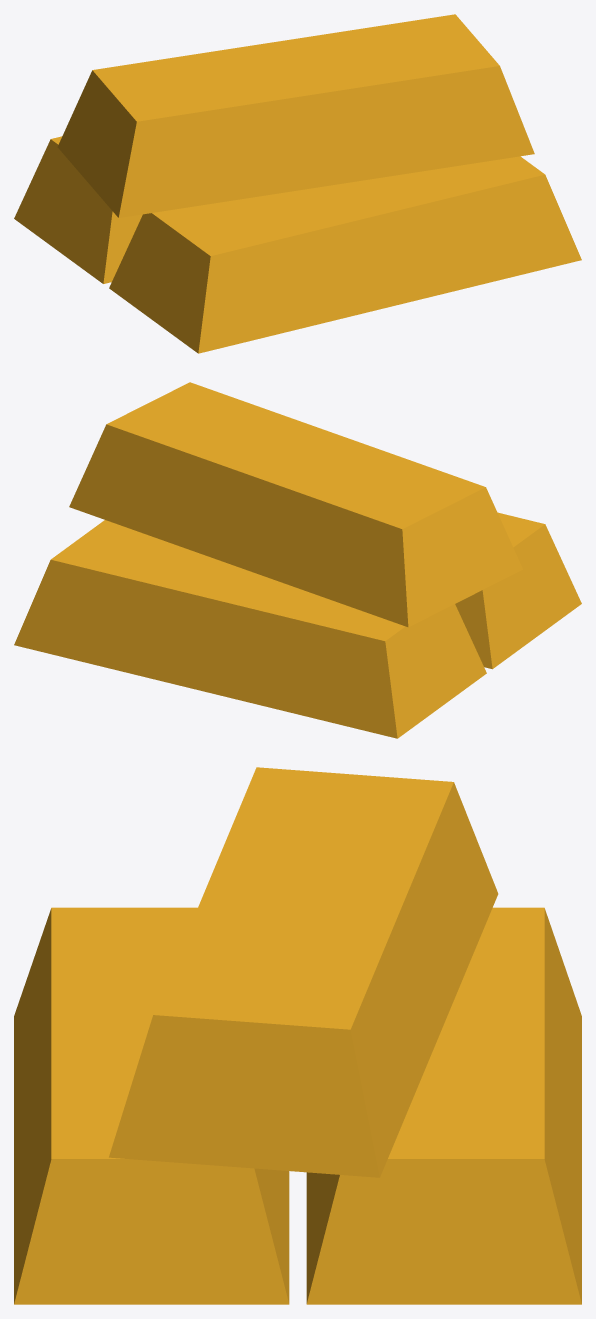
Rendered from Golden bars.FBX.
3 renders of one model, top to bottom at view 1: azimuth 30°, elevation 25°; view 2: azimuth 150°, elevation 25°; view 3: azimuth 270°, elevation 25°, orthographic. The views are drawn at different scales.
Parts seen in each view (by area): view 1: Object007; view 2: Object007; view 3: Object007.
Part boxes in pixels (bbox=[...]): Object007: bbox=[14, 14, 581, 353]; Object007: bbox=[14, 382, 581, 738]; Object007: bbox=[14, 767, 581, 1304].
Bounding box in the file's own units: 3.33 × 1.34 × 2.63.
